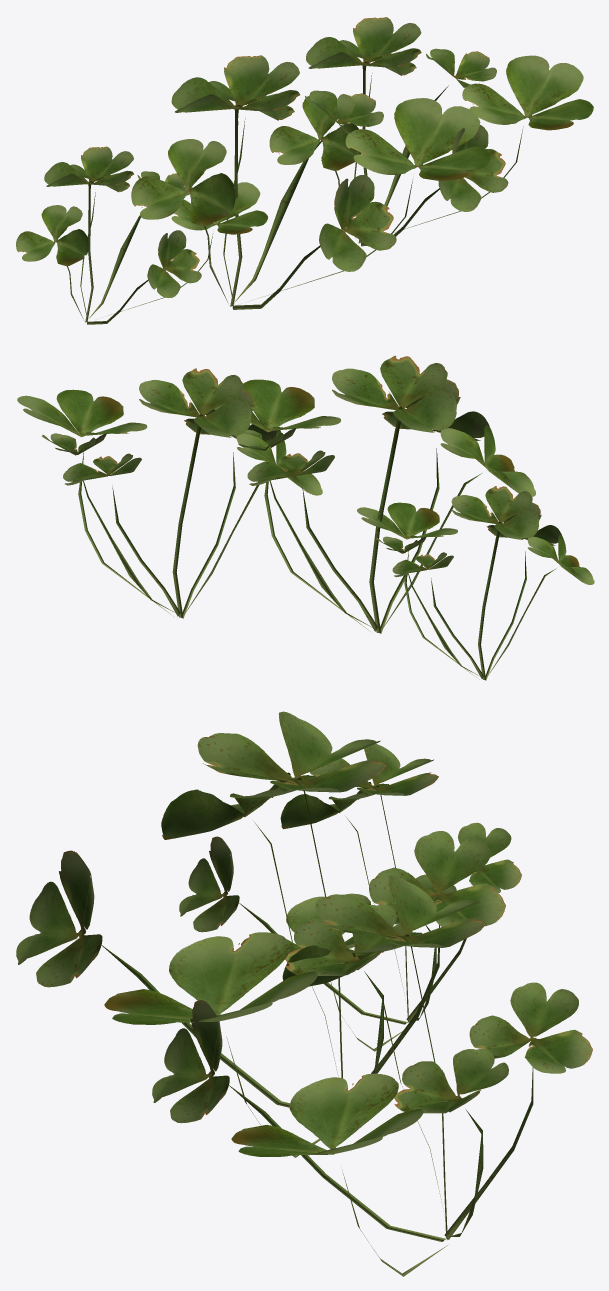
Rendered from shrub.glb.
3 views of the same model, one above another, from view 1: azimuth 30°, elevation 25°; view 2: azimuth 150°, elevation 25°; view 3: azimuth 270°, elevation 25° (orthographic). The views are drawn at different scales.
Parts seen in each view (by area): view 1: shrub, ph-sorrel-b-low; view 2: shrub, ph-sorrel-b-low; view 3: shrub, ph-sorrel-b-low.
Boxes of the visible parts, x1,y1,x2,y2 form: shrub: (16, 17, 593, 324); ph-sorrel-b-low: (131, 55, 491, 309); shrub: (17, 368, 594, 680); ph-sorrel-b-low: (214, 355, 535, 633); shrub: (152, 739, 592, 1276); ph-sorrel-b-low: (16, 711, 505, 1157).
Bounding box in the file's own units: 1.58 × 0.6431 × 0.9018.
Materials: 1 (1 with a texture image).
